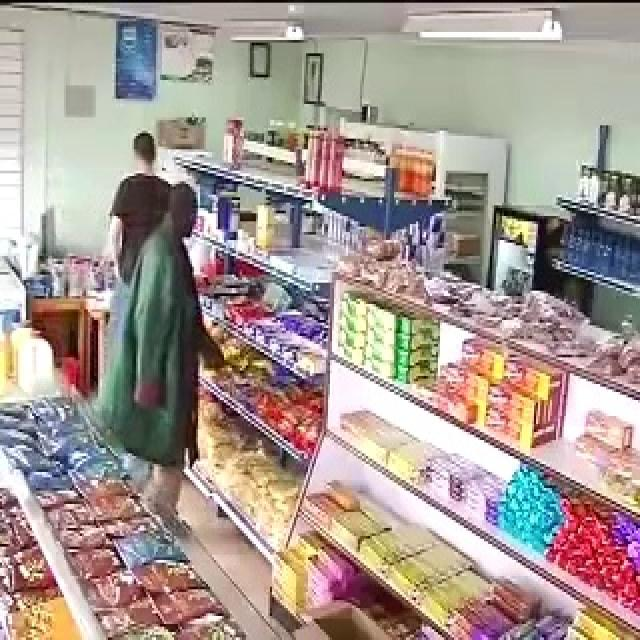normal: (109, 180, 244, 505), (115, 114, 178, 200)
